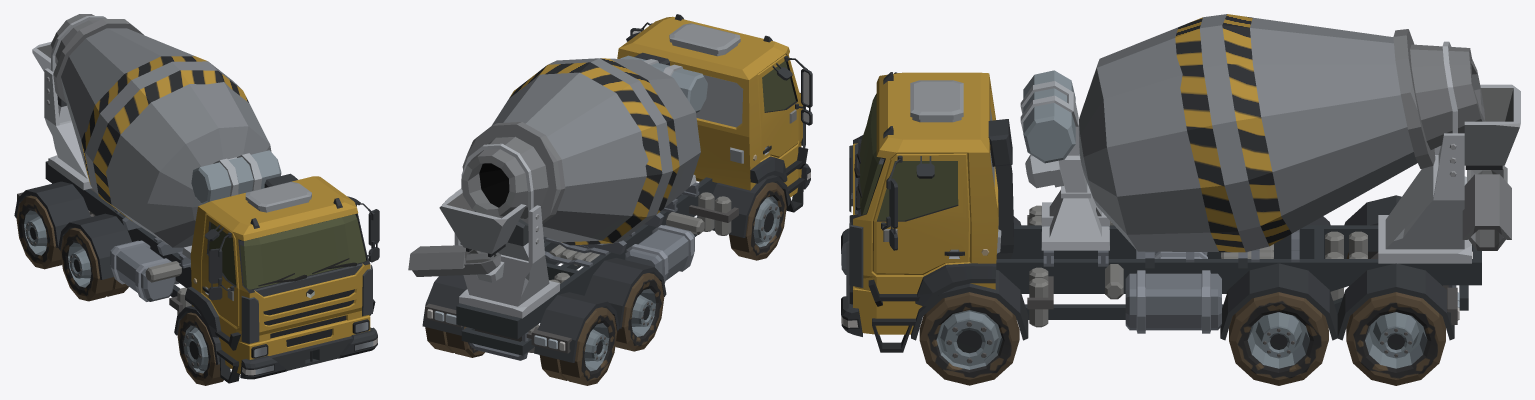
Rendered from SM_Veh_Truck_01_Mixer.fbx.
The picture shows the model from 3 angles, left to right: view 1: azimuth 30°, elevation 25°; view 2: azimuth 150°, elevation 25°; view 3: azimuth 270°, elevation 25°; orthographic projection. The views are drawn at different scales.
Parts seen in each view (by area): view 1: SM_Veh_Truck_01, SM_Veh_Truck_01_ConcreteMixer_Mixer, SM_Veh_Truck_01_ConcreteMixer, SM_Veh_Truck_01_Glass, SM_Veh_Truck_01_Wheel_mr, SM_Veh_Truck_01_Wheel_rr, SM_Veh_Truck_01_Wheel_fr; view 2: SM_Veh_Truck_01, SM_Veh_Truck_01_ConcreteMixer_Mixer, SM_Veh_Truck_01_ConcreteMixer, SM_Veh_Truck_01_Wheel_rr, SM_Veh_Truck_01_Wheel_fr, SM_Veh_Truck_01_Wheel_mr, SM_Veh_Truck_01_ConcreteMixer_Chute_Extension, SM_Veh_Truck_01_Glass, SM_Veh_Truck_01_ConcreteMixer_Chute, SM_Veh_Truck_01_Wheel_rl; view 3: SM_Veh_Truck_01_ConcreteMixer_Mixer, SM_Veh_Truck_01, SM_Veh_Truck_01_ConcreteMixer, SM_Veh_Truck_01_Wheel_ml, SM_Veh_Truck_01_Wheel_rl, SM_Veh_Truck_01_Wheel_fl, SM_Veh_Truck_01_Glass, SM_Veh_Truck_01_ConcreteMixer_Chute_Extension, SM_Veh_Truck_01_ConcreteMixer_Chute.
Boxes of the visible parts, box(x1,y1,x2,y2) form: SM_Veh_Truck_01: box(14, 161, 379, 383); SM_Veh_Truck_01_ConcreteMixer_Mixer: box(50, 14, 271, 247); SM_Veh_Truck_01_ConcreteMixer: box(32, 16, 281, 268); SM_Veh_Truck_01_Glass: box(209, 214, 366, 289); SM_Veh_Truck_01_Wheel_mr: box(60, 228, 128, 301); SM_Veh_Truck_01_Wheel_rr: box(16, 195, 62, 269); SM_Veh_Truck_01_Wheel_fr: box(177, 312, 230, 385); SM_Veh_Truck_01: box(422, 14, 812, 362); SM_Veh_Truck_01_ConcreteMixer_Mixer: box(461, 58, 700, 245); SM_Veh_Truck_01_ConcreteMixer: box(439, 55, 707, 318); SM_Veh_Truck_01_Wheel_rr: box(539, 307, 617, 385); SM_Veh_Truck_01_Wheel_fr: box(729, 182, 786, 260); SM_Veh_Truck_01_Wheel_mr: box(615, 273, 664, 351); SM_Veh_Truck_01_ConcreteMixer_Chute_Extension: box(408, 245, 480, 270); SM_Veh_Truck_01_Glass: box(762, 61, 795, 111); SM_Veh_Truck_01_ConcreteMixer_Chute: box(412, 252, 500, 276); SM_Veh_Truck_01_Wheel_rl: box(425, 326, 484, 357); SM_Veh_Truck_01_ConcreteMixer_Mixer: box(1079, 14, 1485, 252); SM_Veh_Truck_01: box(841, 72, 1481, 352); SM_Veh_Truck_01_ConcreteMixer: box(1020, 41, 1520, 268); SM_Veh_Truck_01_Wheel_ml: box(1229, 292, 1328, 385); SM_Veh_Truck_01_Wheel_rl: box(1346, 292, 1445, 385); SM_Veh_Truck_01_Wheel_fl: box(919, 292, 1019, 385); SM_Veh_Truck_01_Glass: box(860, 93, 958, 220); SM_Veh_Truck_01_ConcreteMixer_Chute_Extension: box(1462, 174, 1511, 239); SM_Veh_Truck_01_ConcreteMixer_Chute: box(1467, 165, 1507, 250).
Size of the model in its own units: 351 by 464 by 909.
3 materials, 3 textured.
